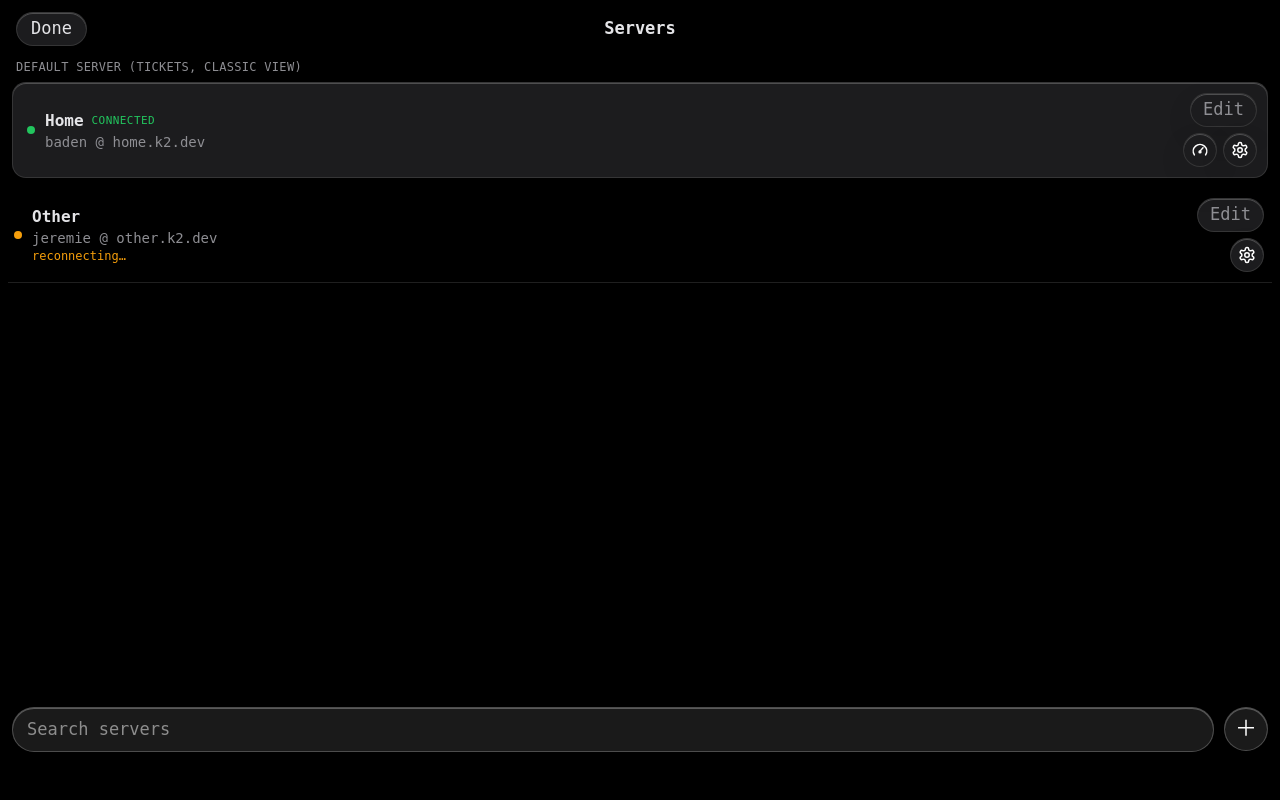
Servers sheet gear → Server settings › opens the page for that server id: title, address, user, role, status, version
Click the 2nd button with test id "server-settings": (1247, 255) [1230,238,1264,272]
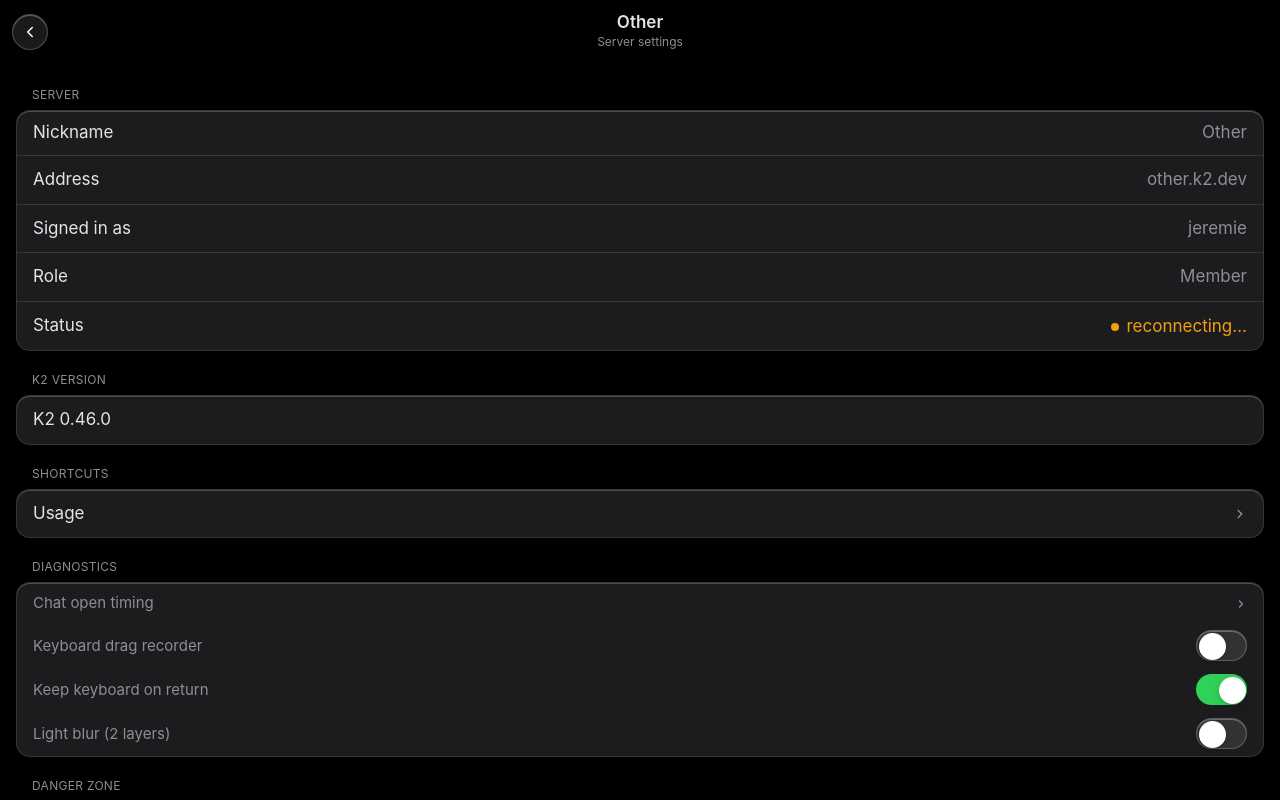
Result: the heading with test id "server-settings-title" reads "Other" at [617,12,663,32]
Result: the text "Server settings" is shown at [597,33,683,51]
Result: the text with test id "server-settings-address" reads "other.k2.dev" at [1147,169,1247,189]
